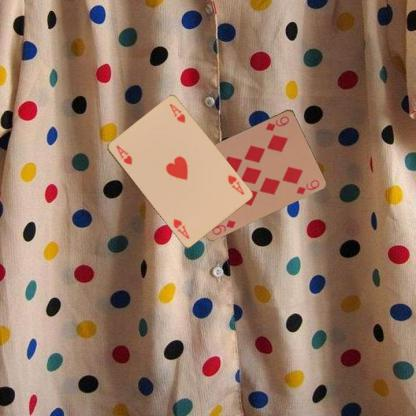9d: (210, 217, 237, 236), (263, 114, 291, 132)
Ah: (113, 143, 133, 166), (225, 173, 245, 196)
